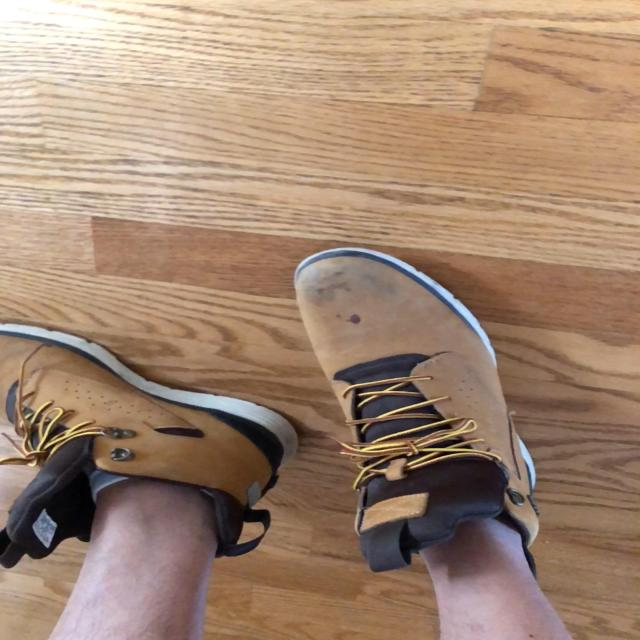shoe: (292, 247, 574, 640), (0, 329, 300, 566)
